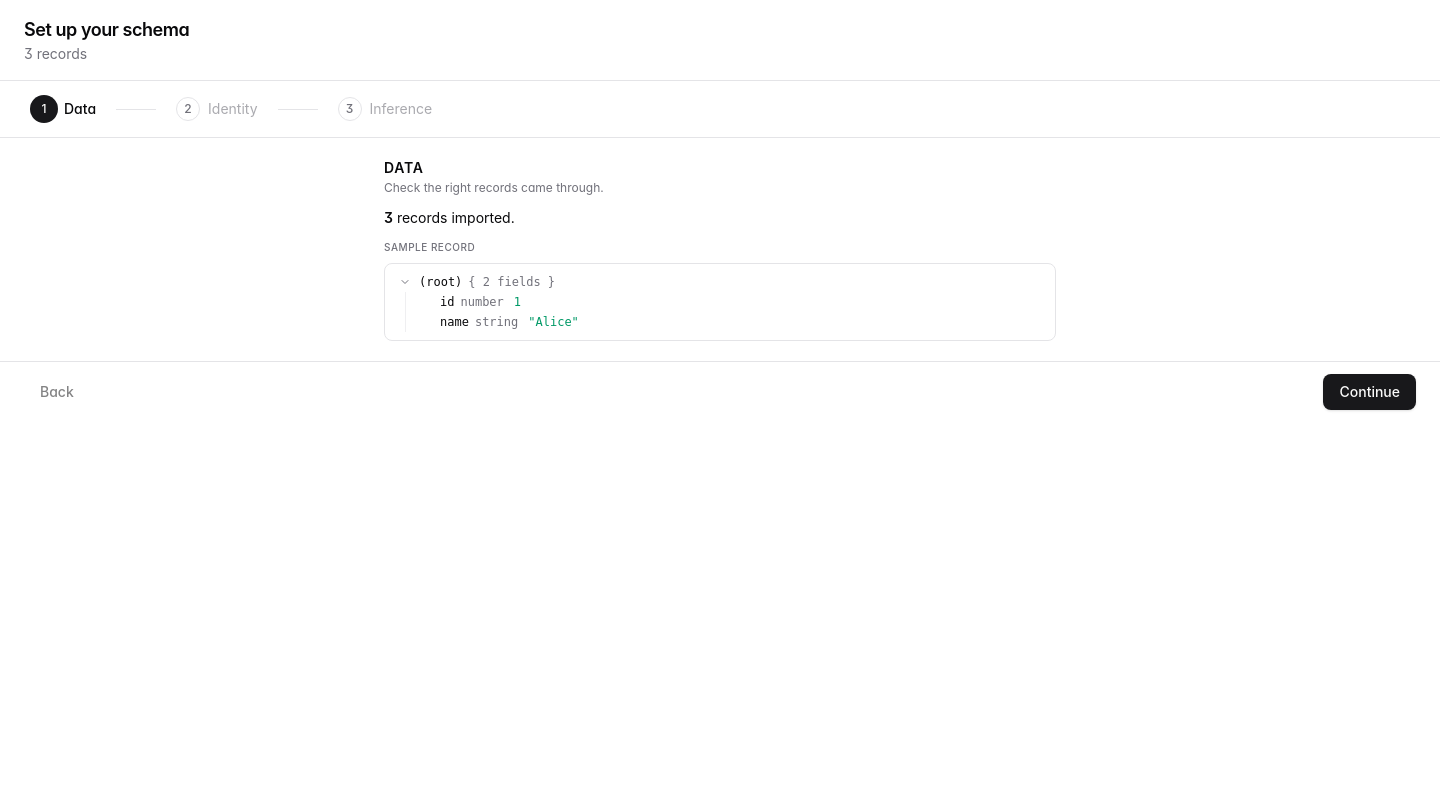
Test: WizardHost › Z-W3: two Continues reach the inline Inference step with a Generate footer, no modal
Click the button "Continue".
click(1370, 392)  # box left=1324, top=374, right=1416, bottom=410
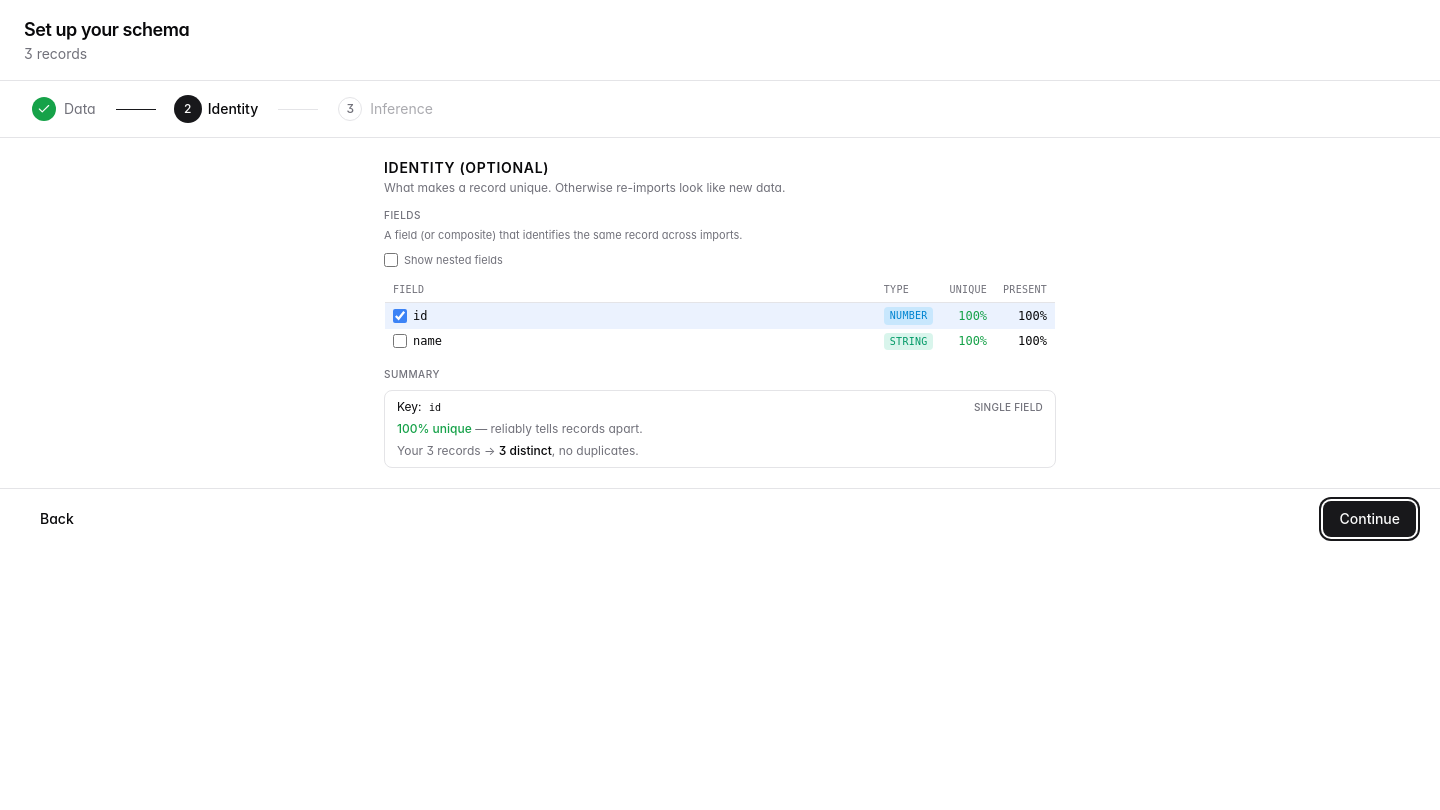
Click the button "Continue".
click(1370, 519)  # box left=1324, top=501, right=1416, bottom=537
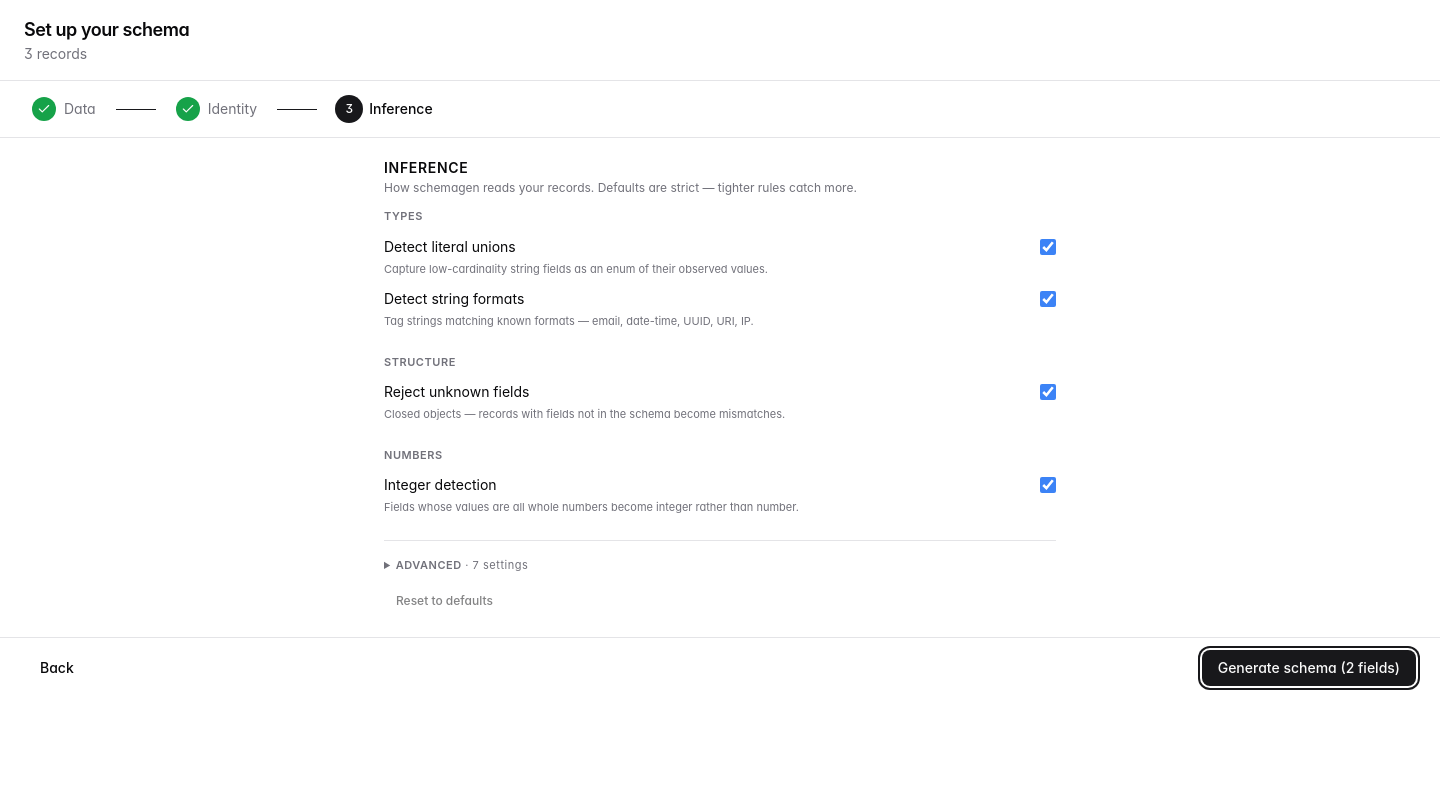
Now the checkbox labelled "Detect literal unions" is shown, box left=1040, top=238, right=1056, bottom=254
Now the button "Generate schema (2 fields)" is shown, box left=1202, top=650, right=1416, bottom=686
